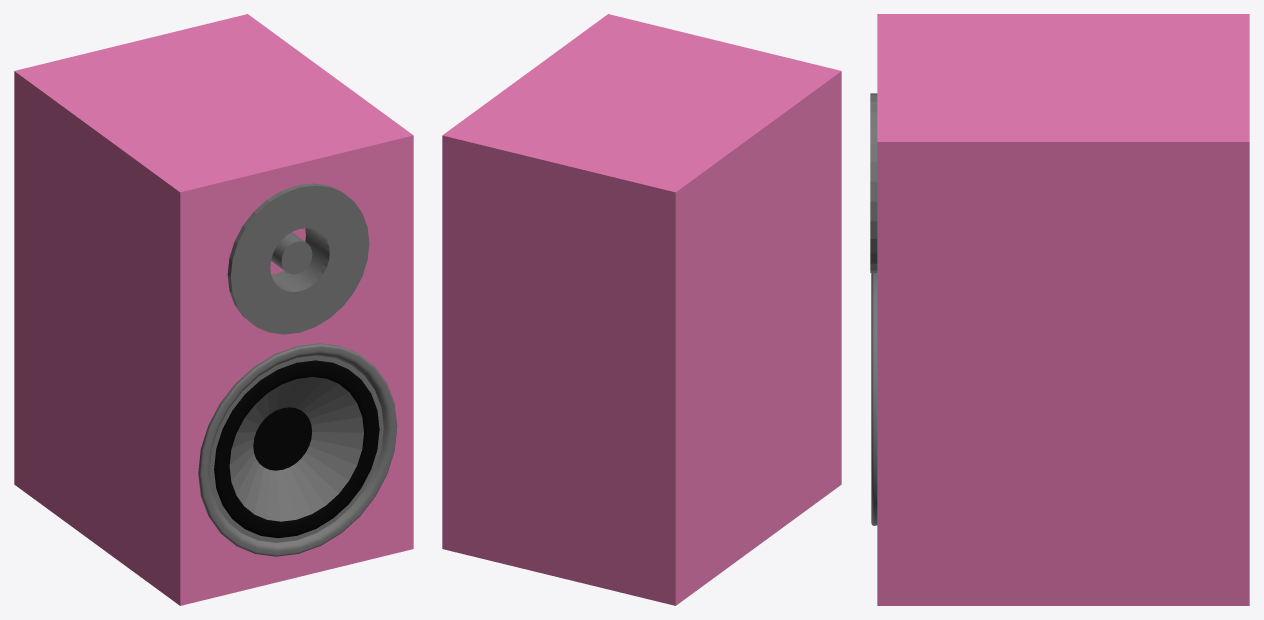
The model's file is 스피커_핑2.FBX.
3 views of the same model, side by side, from view 1: azimuth 30°, elevation 25°; view 2: azimuth 150°, elevation 25°; view 3: azimuth 270°, elevation 25° (orthographic). The views are drawn at different scales.
Parts seen in each view (by area): view 1: Box004, Circle013, Circle014; view 2: Box004; view 3: Box004, Circle013, Circle014.
Part boxes in pixels (x1,y1,x2,y2): Box004: [14, 14, 413, 605]; Circle013: [198, 343, 397, 556]; Circle014: [227, 183, 369, 334]; Box004: [442, 14, 841, 605]; Box004: [877, 14, 1249, 605]; Circle013: [871, 273, 877, 525]; Circle014: [870, 93, 877, 272].
Size of the model in its own units: 179 by 304 by 225.
